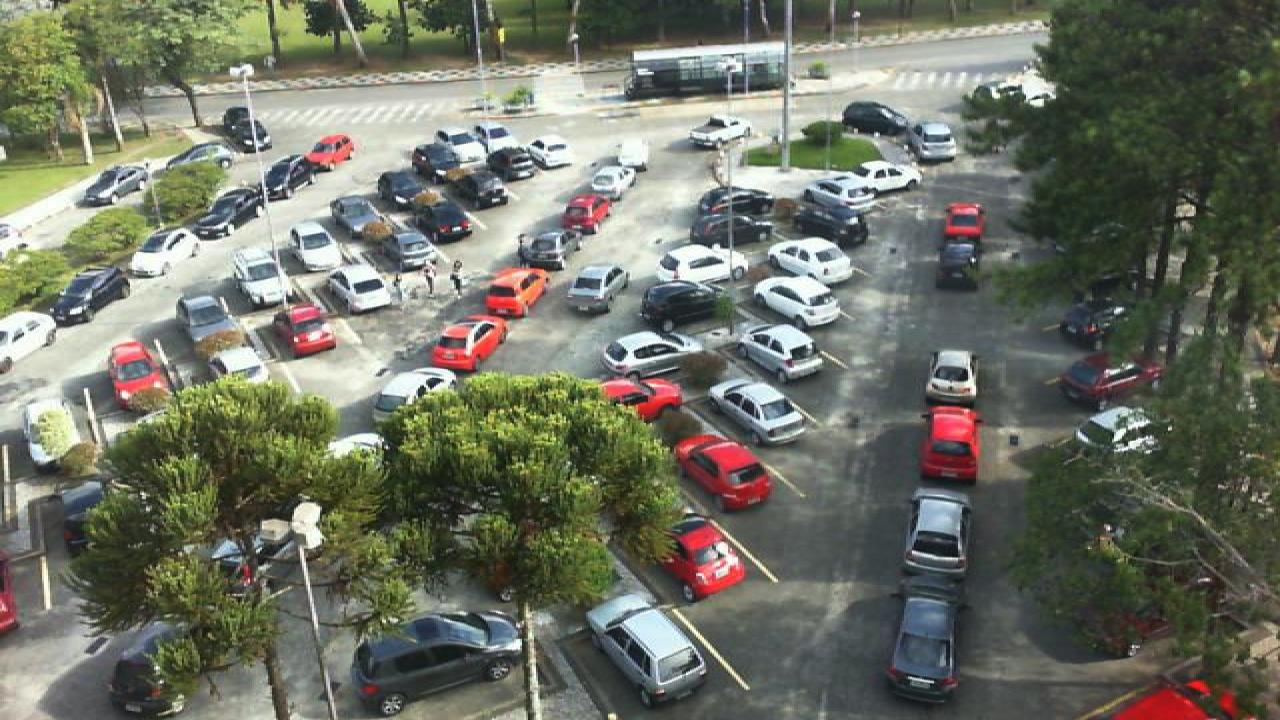Car: (348, 610, 524, 711), (584, 595, 708, 709), (106, 623, 196, 719), (672, 433, 776, 510), (658, 516, 748, 602), (882, 618, 966, 706), (898, 492, 976, 585), (704, 379, 810, 446), (1058, 350, 1164, 407), (48, 264, 134, 326), (740, 322, 828, 382), (918, 405, 984, 484), (368, 367, 460, 422), (102, 341, 172, 412), (750, 276, 844, 328), (428, 315, 510, 371), (640, 280, 730, 331), (1074, 402, 1158, 456), (600, 330, 692, 378), (594, 376, 688, 422), (768, 236, 854, 286), (658, 243, 752, 288), (226, 246, 296, 306), (172, 291, 240, 349), (326, 262, 400, 315), (192, 186, 270, 236), (128, 227, 202, 278), (480, 266, 552, 318), (688, 210, 776, 252), (0, 310, 58, 372), (406, 191, 476, 242), (272, 304, 338, 358), (564, 263, 632, 314), (922, 349, 980, 408), (794, 206, 874, 248), (842, 160, 928, 199), (342, 191, 408, 241), (288, 218, 348, 272), (82, 161, 150, 205), (840, 101, 922, 137), (380, 228, 440, 276), (258, 154, 320, 200), (802, 178, 878, 215), (476, 138, 540, 180), (444, 167, 508, 208), (698, 184, 772, 219), (516, 230, 574, 271), (938, 236, 982, 289), (220, 106, 272, 150), (908, 121, 960, 164), (686, 113, 754, 145), (560, 191, 610, 233), (412, 143, 468, 180), (942, 202, 988, 246), (302, 133, 358, 169), (376, 170, 424, 209), (522, 134, 572, 168)
